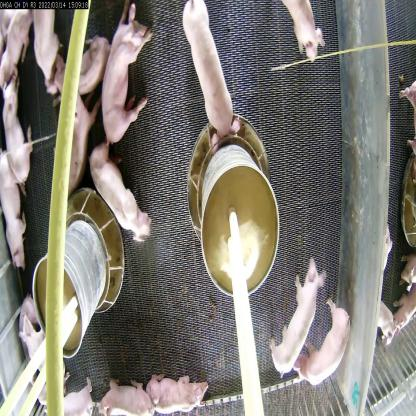Pig: (174, 0, 245, 152), (82, 117, 157, 242), (98, 7, 150, 142), (269, 251, 322, 374), (52, 76, 102, 204), (0, 69, 43, 184), (16, 304, 62, 409), (294, 301, 349, 387), (0, 144, 40, 262), (273, 0, 333, 73), (146, 363, 215, 415), (56, 34, 120, 90), (30, 4, 68, 96), (96, 373, 158, 415), (50, 379, 99, 416)
